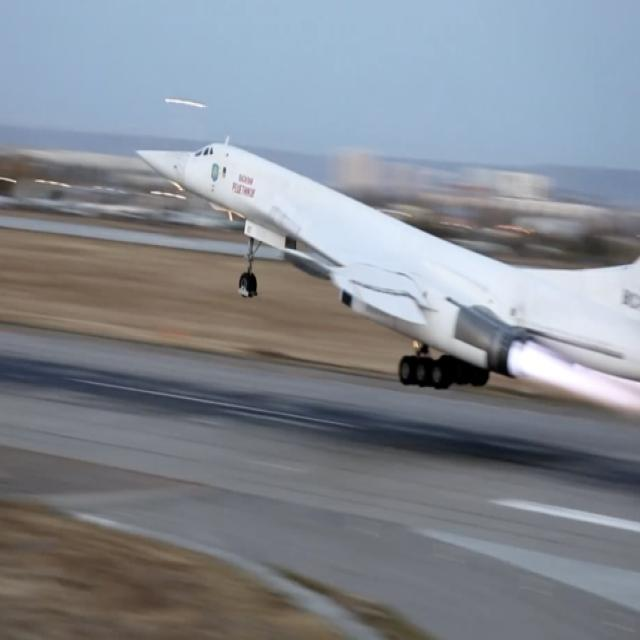MIL_Plane: (134, 134, 640, 390)
